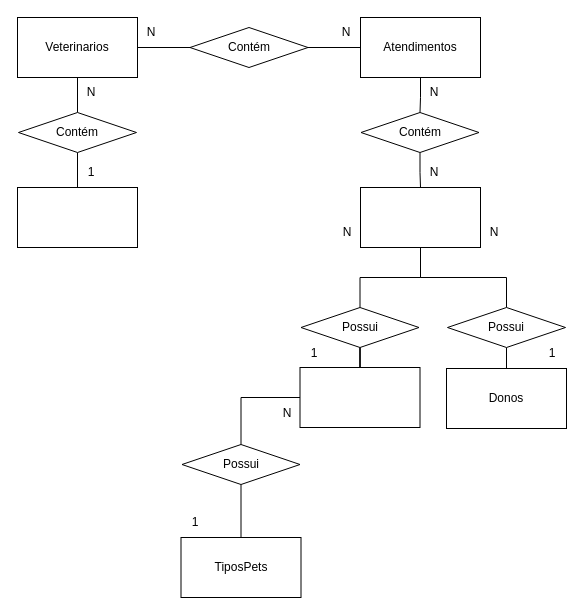
The diagram is 584 pixels wide and 615 high, and some of its shapes have lost their labels. Here are the shapes that lost their labels. From the top down, the centre of each, then its label:
At point (77, 217): "Clinicas".
At point (420, 217): "Pets".
At point (359, 397): "Racas".
